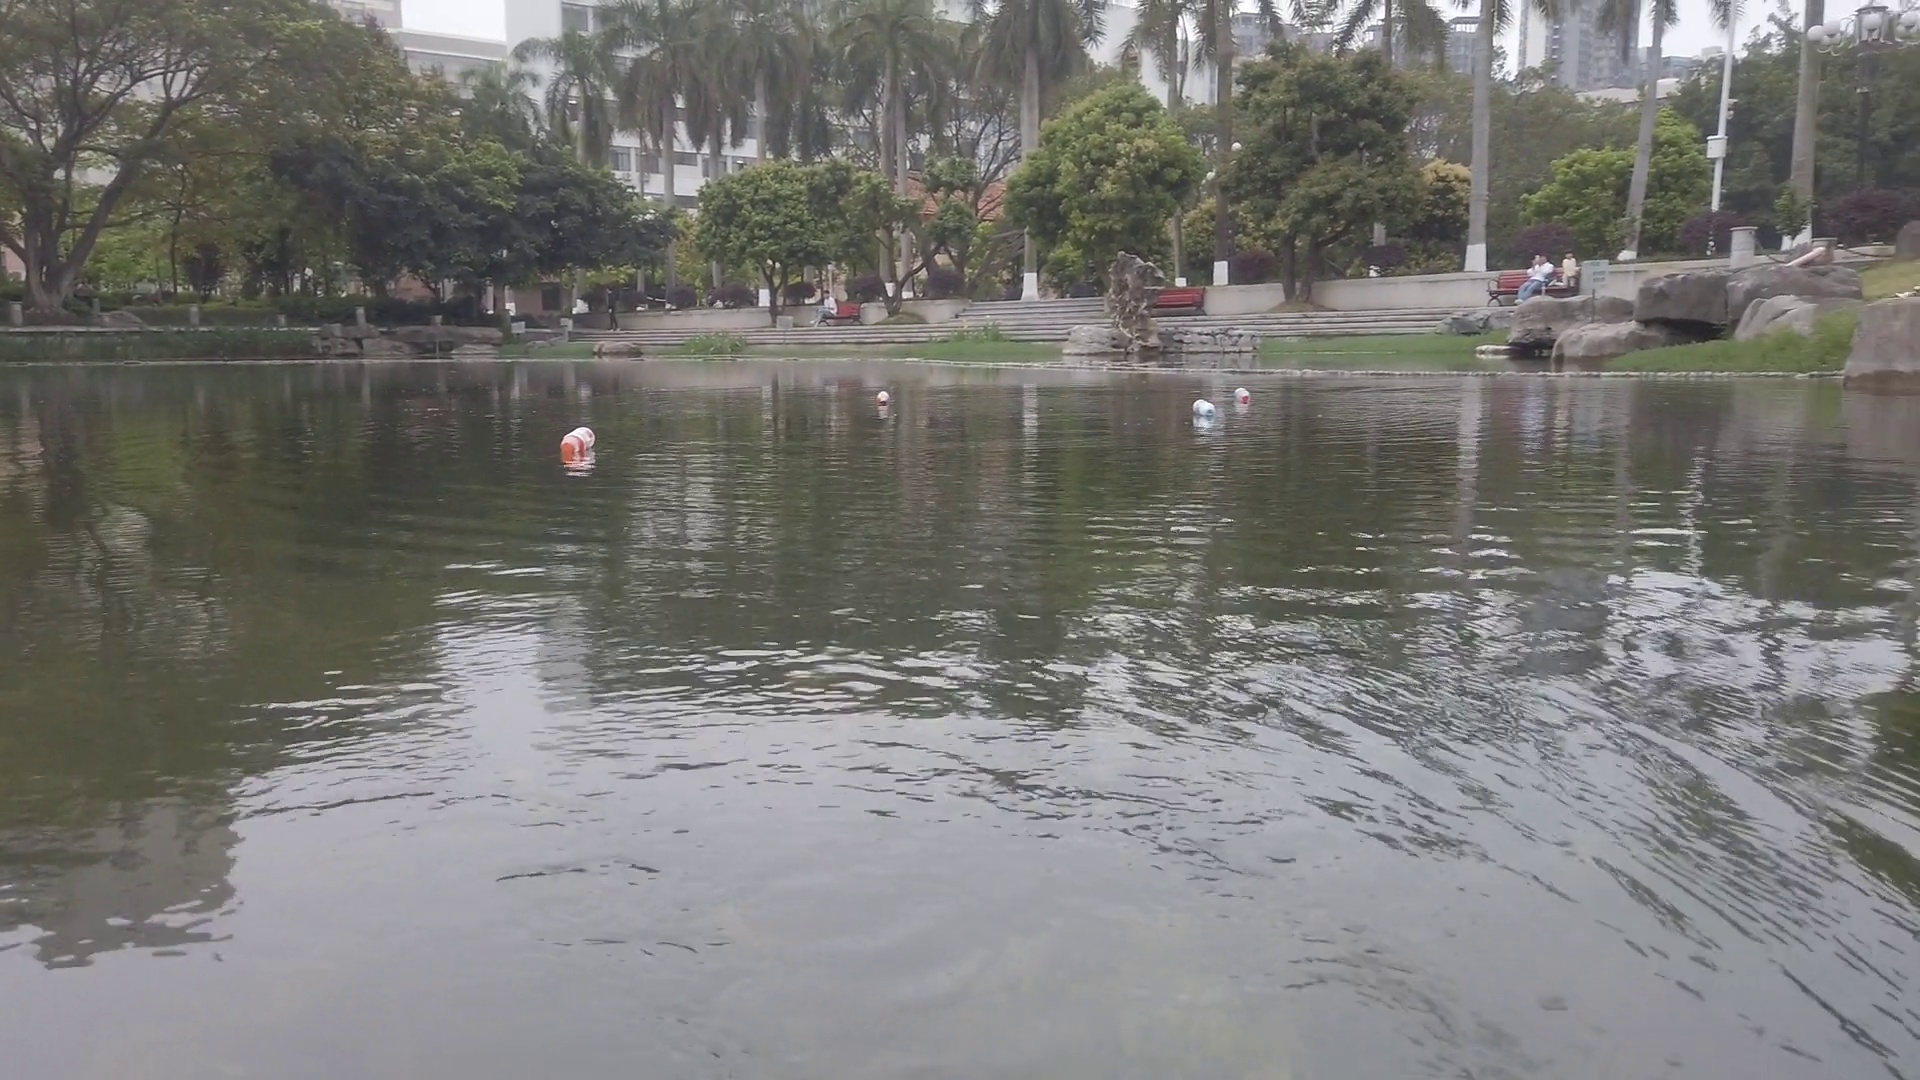bottle: (560, 425, 596, 458), (1193, 400, 1218, 419), (1236, 386, 1254, 406), (876, 390, 891, 407)
